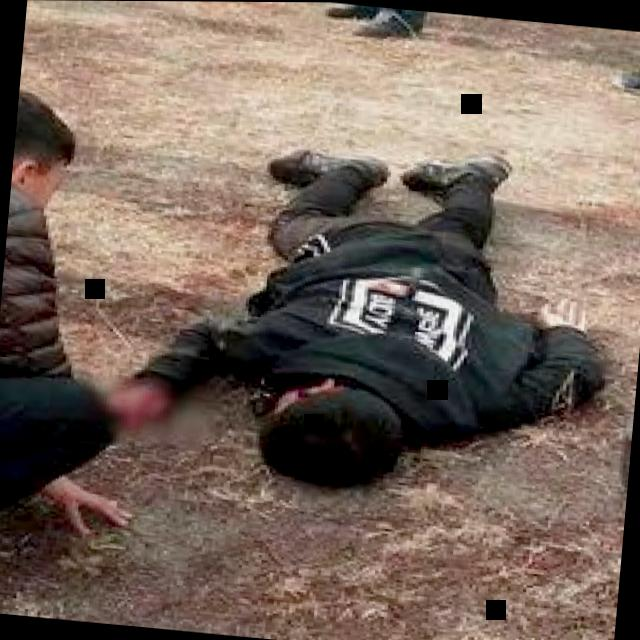Fall-Detected: (85, 102, 640, 513)
